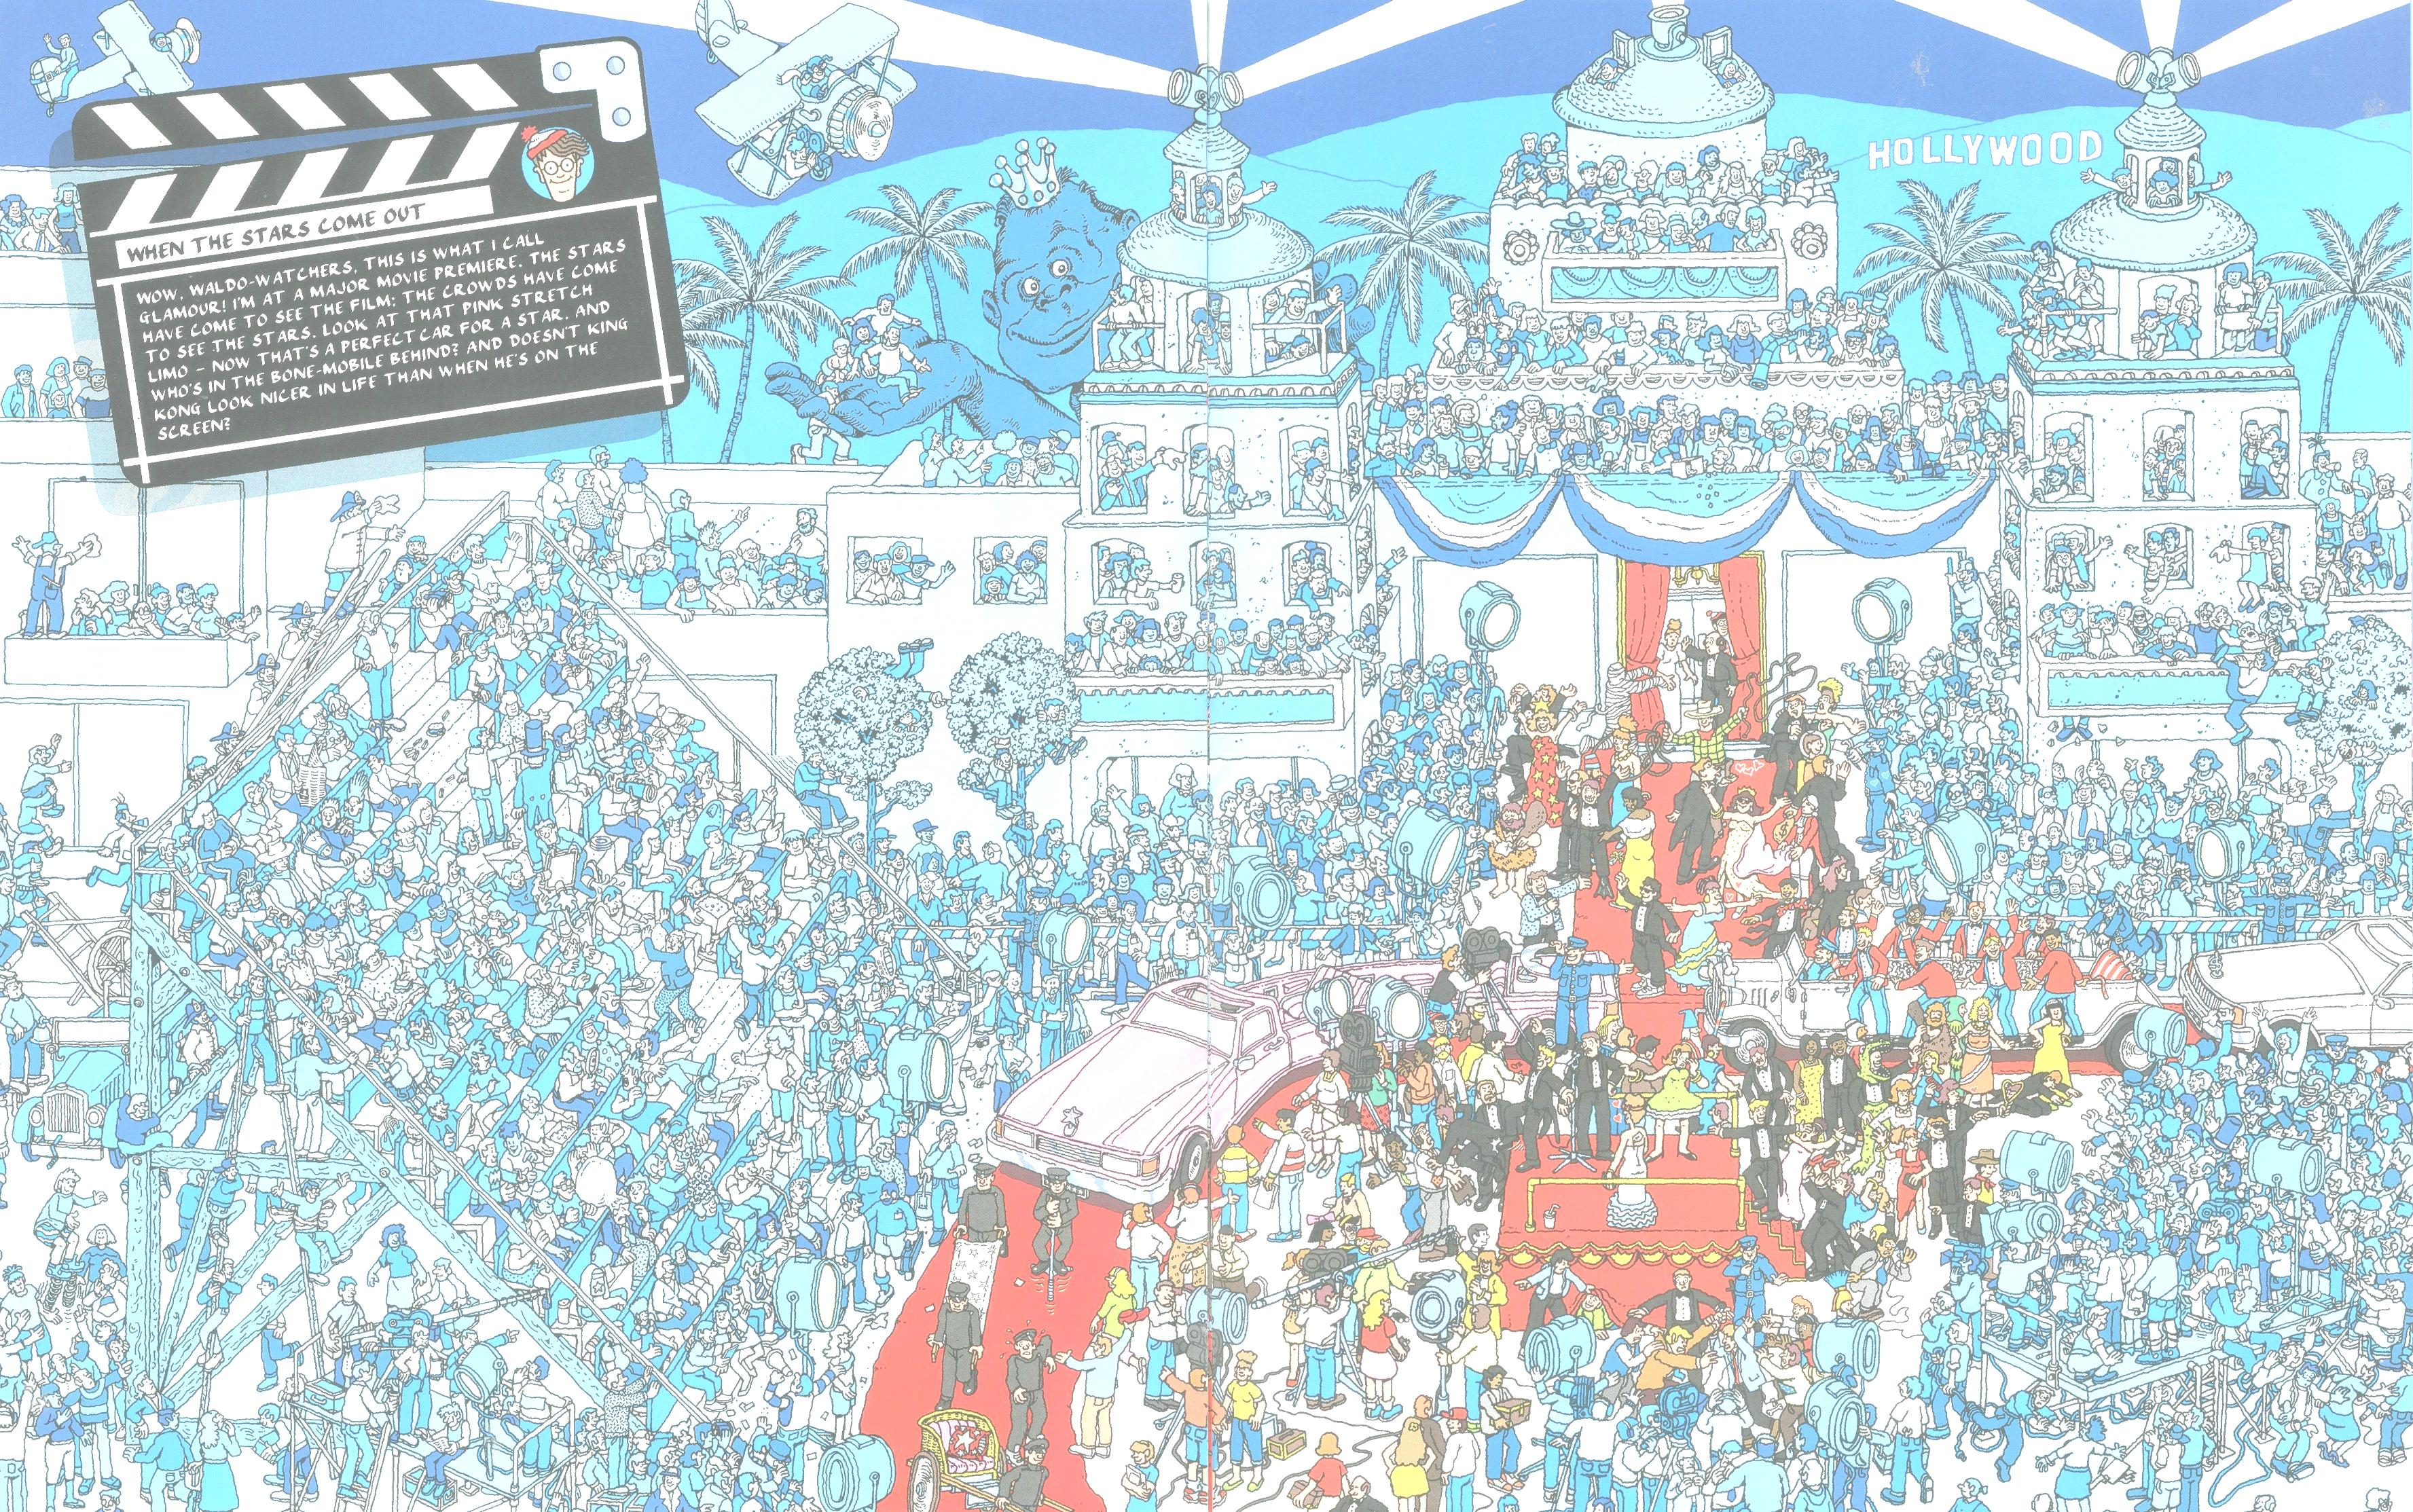waldos: (1704, 608, 1734, 657)
